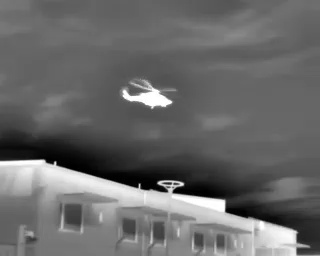HELICOPTER: (118, 73, 183, 116)
